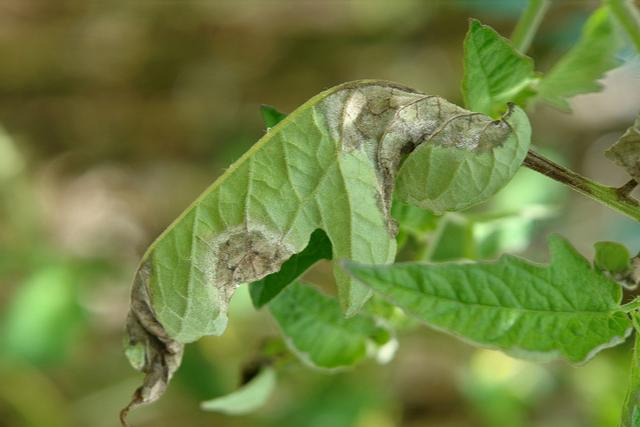Tomato leaf late blight: (93, 70, 534, 419), (300, 191, 615, 404)
